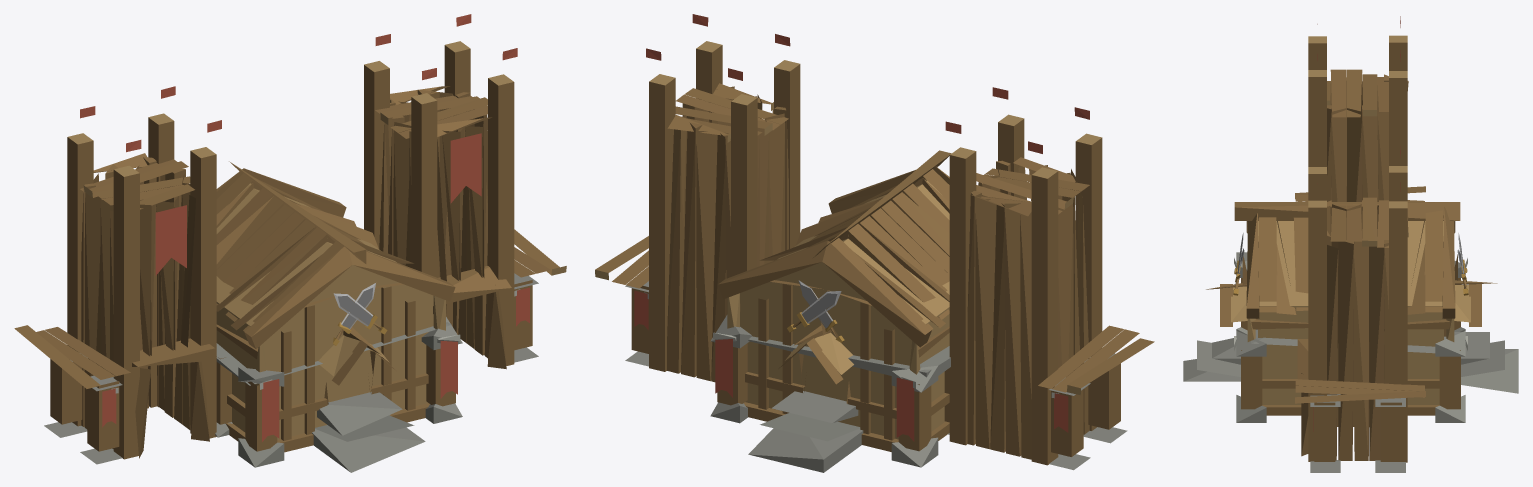
File: barracks_lod.glb
3 renders of one model, left to right at view 1: azimuth 30°, elevation 25°; view 2: azimuth 150°, elevation 25°; view 3: azimuth 270°, elevation 25°, orthographic. The views are drawn at different scales.
Visible parts, largest first — view 1: Barracks_FirstAge_Level3; view 2: Barracks_FirstAge_Level3; view 3: Barracks_FirstAge_Level3.
Boxes of the visible parts, <box> form: Barracks_FirstAge_Level3: <box>14,14,566,472</box>; Barracks_FirstAge_Level3: <box>595,14,1154,472</box>; Barracks_FirstAge_Level3: <box>1183,16,1518,472</box>.
Bounding box in the file's own units: 2.33 × 1.45 × 1.57.
